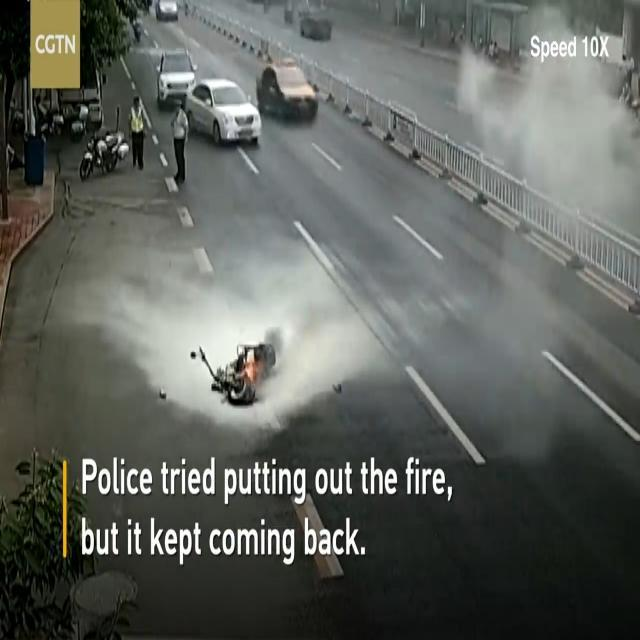Smoke: (458, 9, 626, 202)
